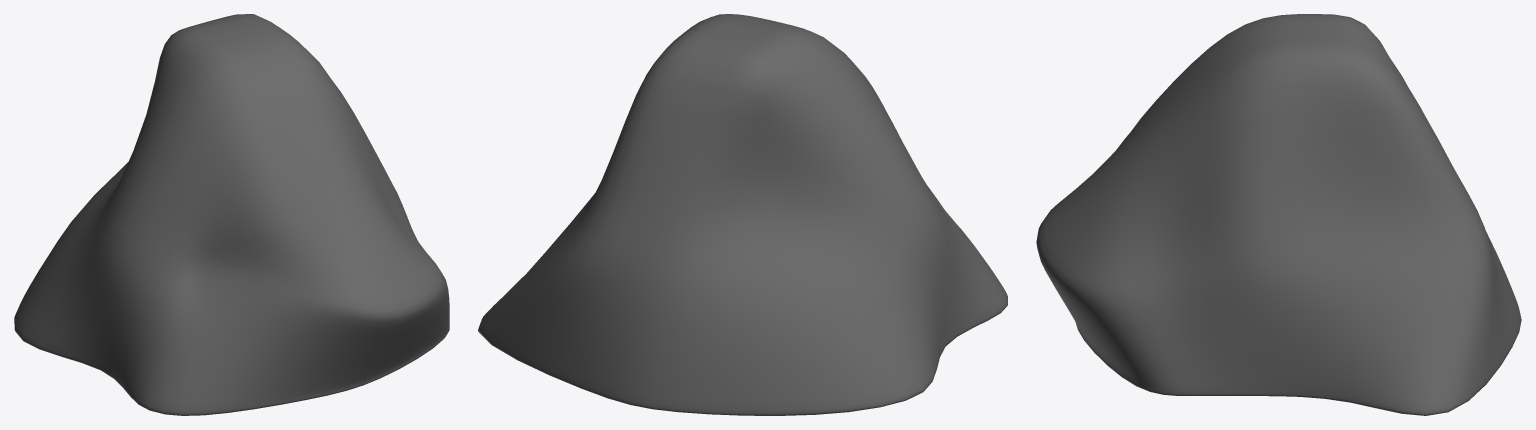
File: mountain.fbx
3 views of the same model, side by side, from view 1: azimuth 30°, elevation 25°; view 2: azimuth 150°, elevation 25°; view 3: azimuth 270°, elevation 25° (orthographic). The views are drawn at different scales.
Visible parts, largest first — view 1: mountain; view 2: mountain; view 3: mountain.
Boxes of the visible parts, left/top/right/bottom form: mountain: left=14, top=14, right=449, bottom=415; mountain: left=478, top=14, right=1007, bottom=415; mountain: left=1036, top=14, right=1521, bottom=415.
Size of the model in its own units: 6.4 by 4.5 by 6.75.
